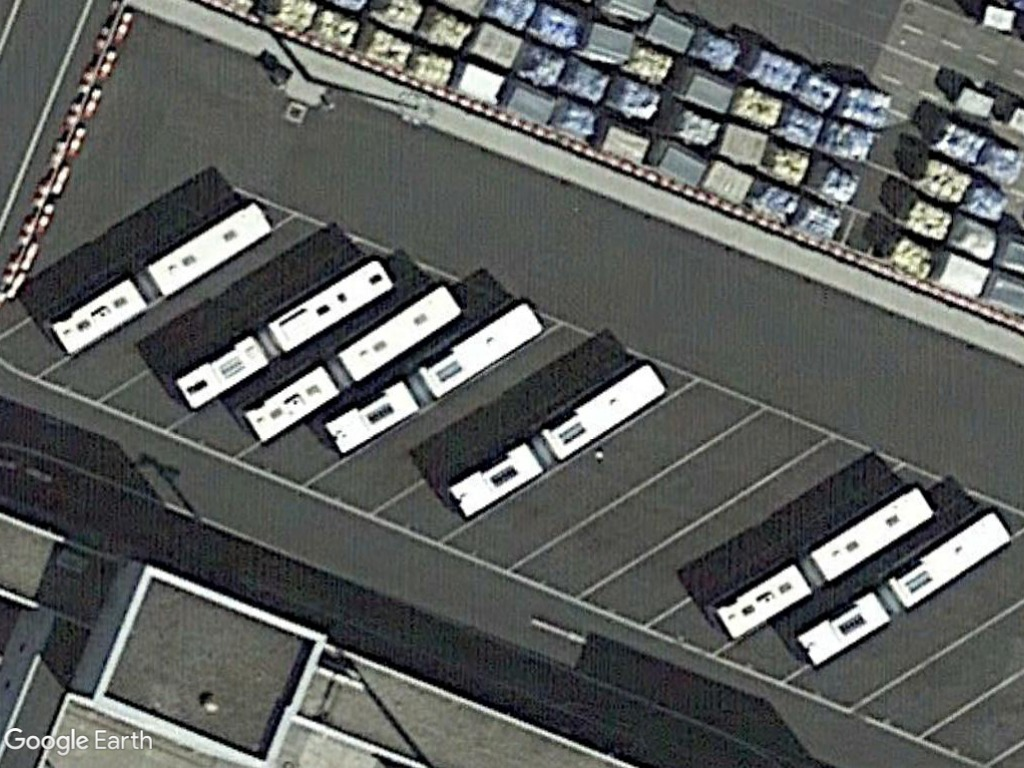bus: (706, 482, 935, 647), (449, 357, 667, 527), (239, 286, 465, 449), (167, 256, 396, 415), (318, 302, 545, 460), (47, 200, 271, 360), (790, 510, 1015, 668)
